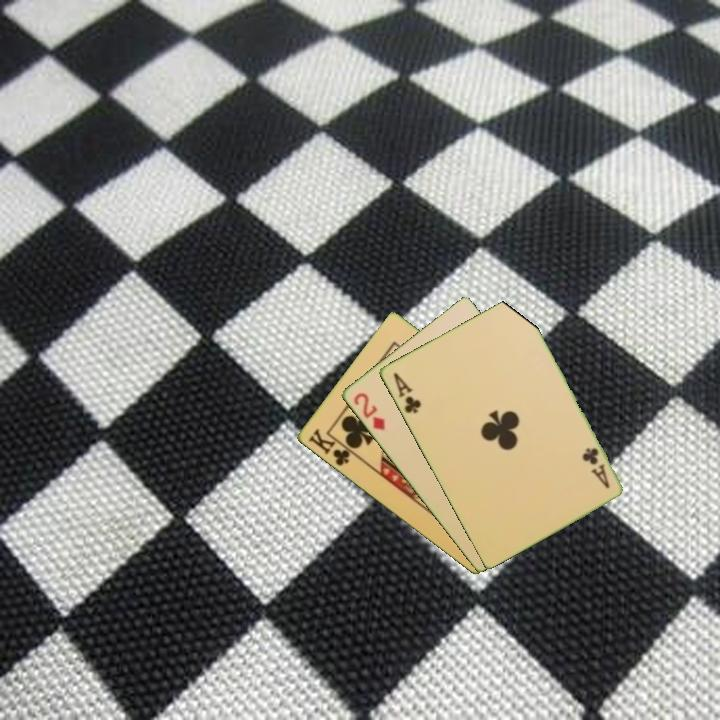2d: (350, 389, 388, 433)
Ac: (389, 369, 424, 416), (578, 444, 612, 491)
Kc: (304, 425, 358, 469)
